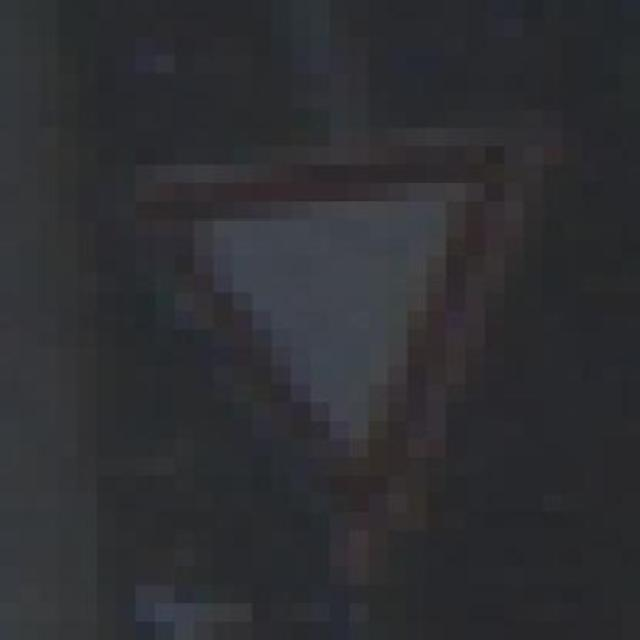Give Way: (92, 122, 597, 543)
